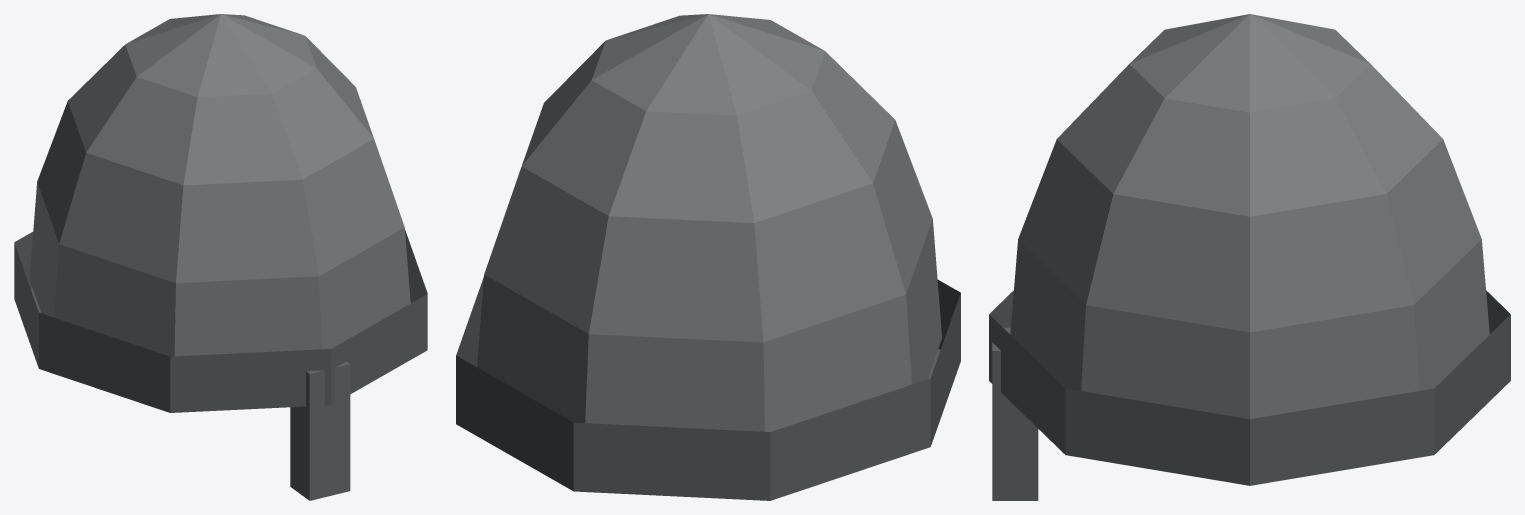
File: helm_iron.glb
3 views of the same model, side by side, from view 1: azimuth 30°, elevation 25°; view 2: azimuth 150°, elevation 25°; view 3: azimuth 270°, elevation 25° (orthographic). The views are drawn at different scales.
Parts seen in each view (by area): view 1: helm_iron; view 2: helm_iron; view 3: helm_iron.
Boxes of the visible parts, x1,y1,x2,y2 form: helm_iron: (14,14,427,500); helm_iron: (456,14,960,500); helm_iron: (989,14,1510,500).
Bounding box in the file's own units: 0.27 × 0.285 × 0.2835.
1 material, 1 textured.
